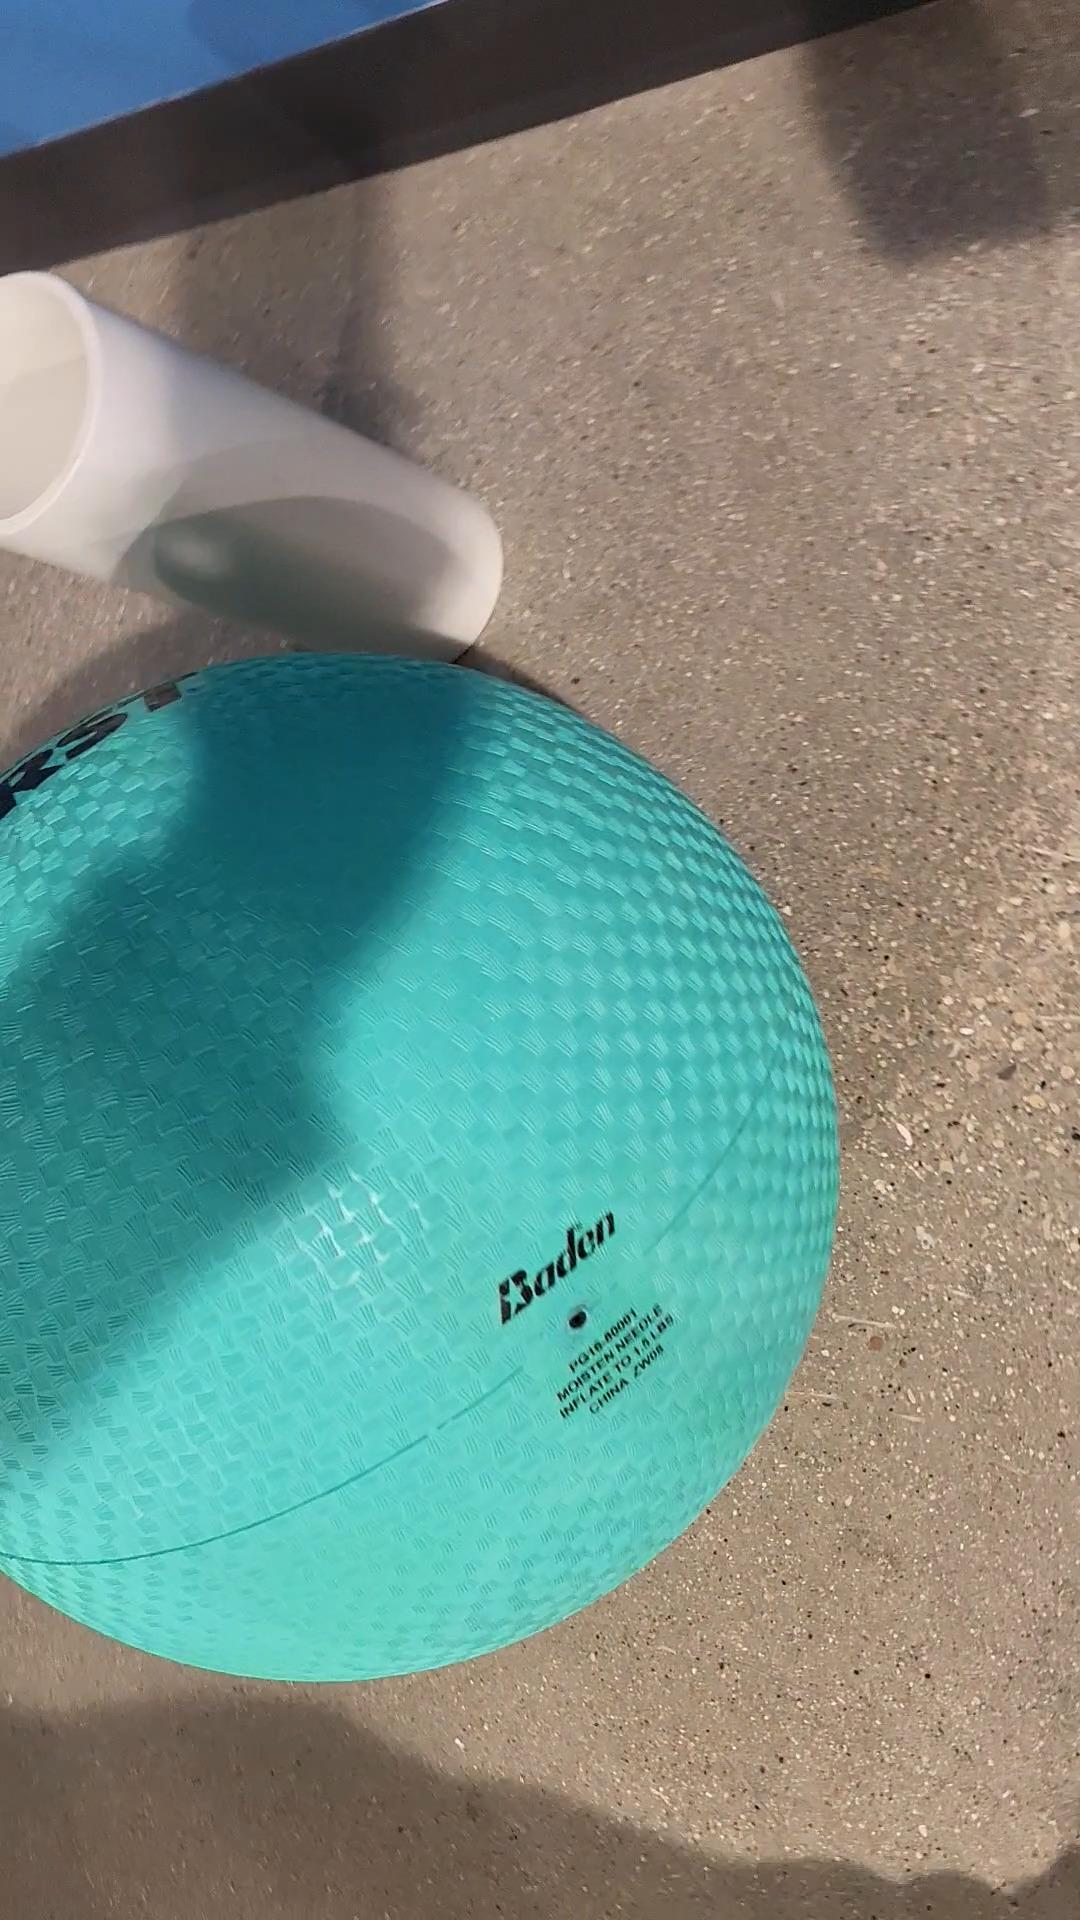algae: (0, 647, 840, 1700)
coral: (0, 253, 510, 663)
